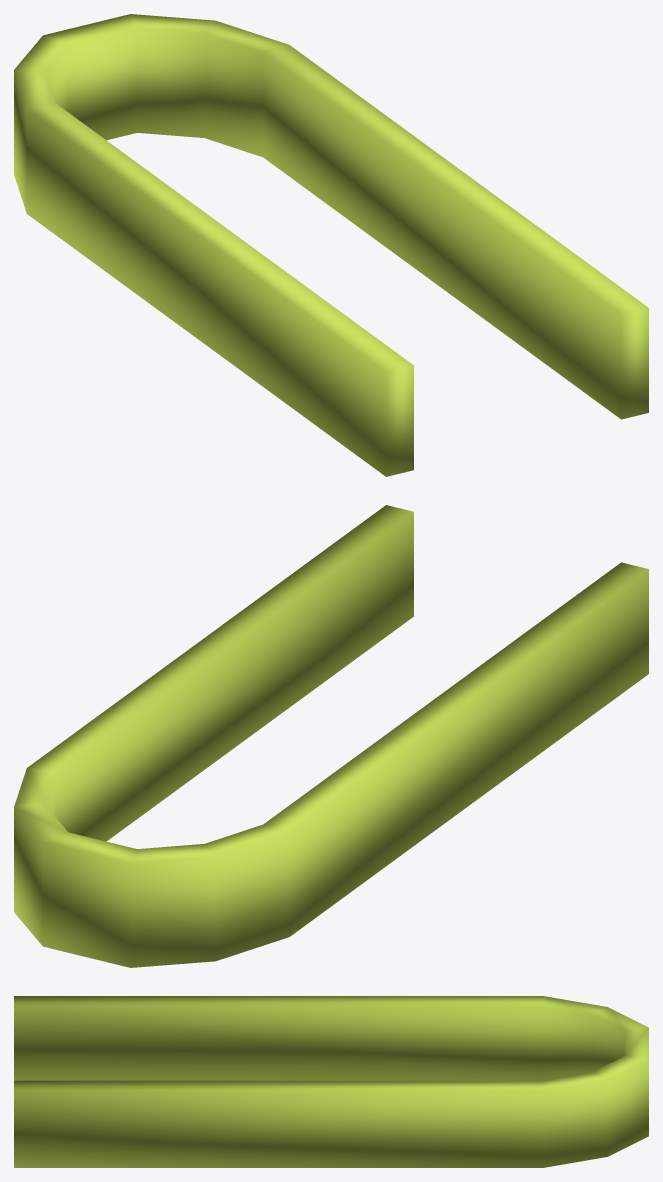
File: ReferenceMan.011.obj
3 renders of one model, top to bottom at view 1: azimuth 30°, elevation 25°; view 2: azimuth 150°, elevation 25°; view 3: azimuth 270°, elevation 25°, orthographic. The views are drawn at different scales.
Parts seen in each view (by area): view 1: ReferenceMan.011; view 2: ReferenceMan.011; view 3: ReferenceMan.011.
Part boxes in pixels (x1=…): ReferenceMan.011: x1=14, y1=14, x2=648, y2=476; ReferenceMan.011: x1=14, y1=505, x2=648, y2=967; ReferenceMan.011: x1=14, y1=996, x2=648, y2=1167.
Bounding box in the file's own units: 0.76 × 0.2899 × 2.16.
